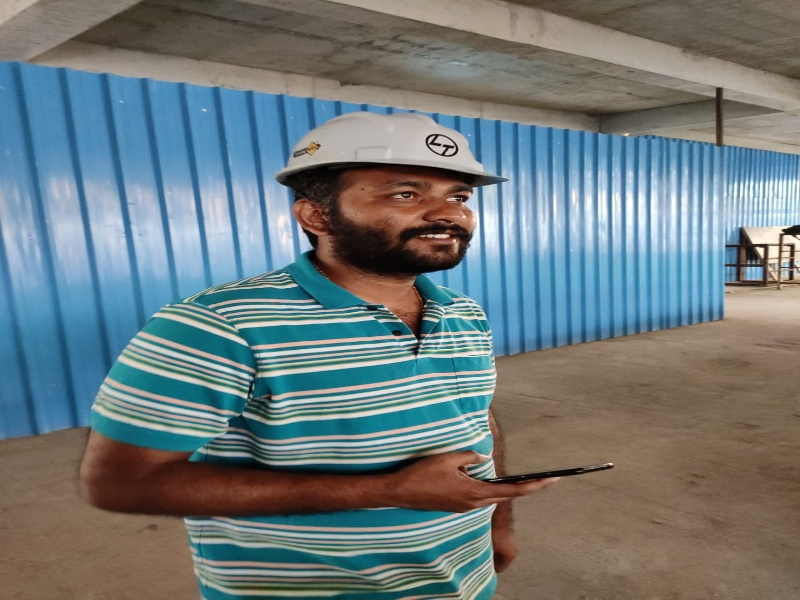Face: (266, 104, 512, 188)
